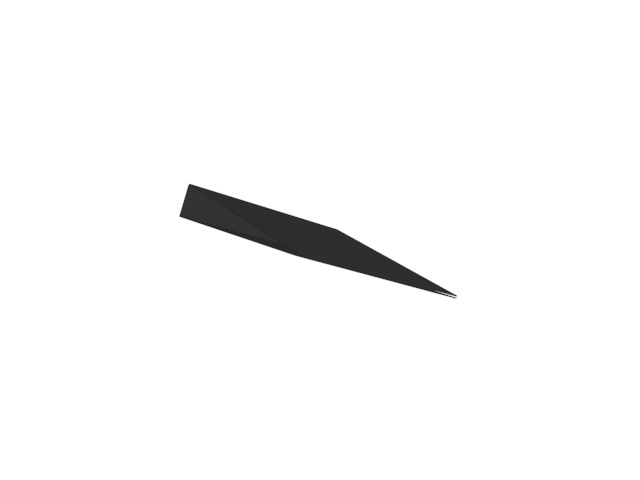ring_binder: (177, 177, 464, 304)
